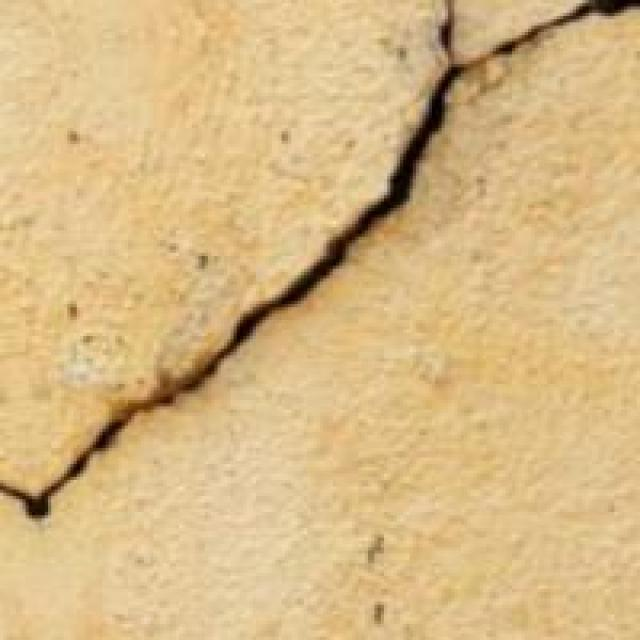Crack: (0, 3, 637, 553)
